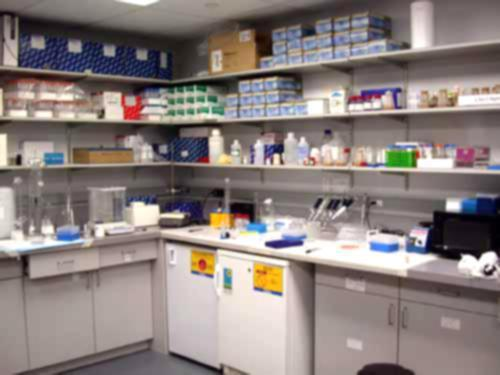Armario: (325, 268, 498, 373), (27, 245, 159, 360)
Electrodomestico: (217, 246, 312, 370), (167, 239, 218, 364)
